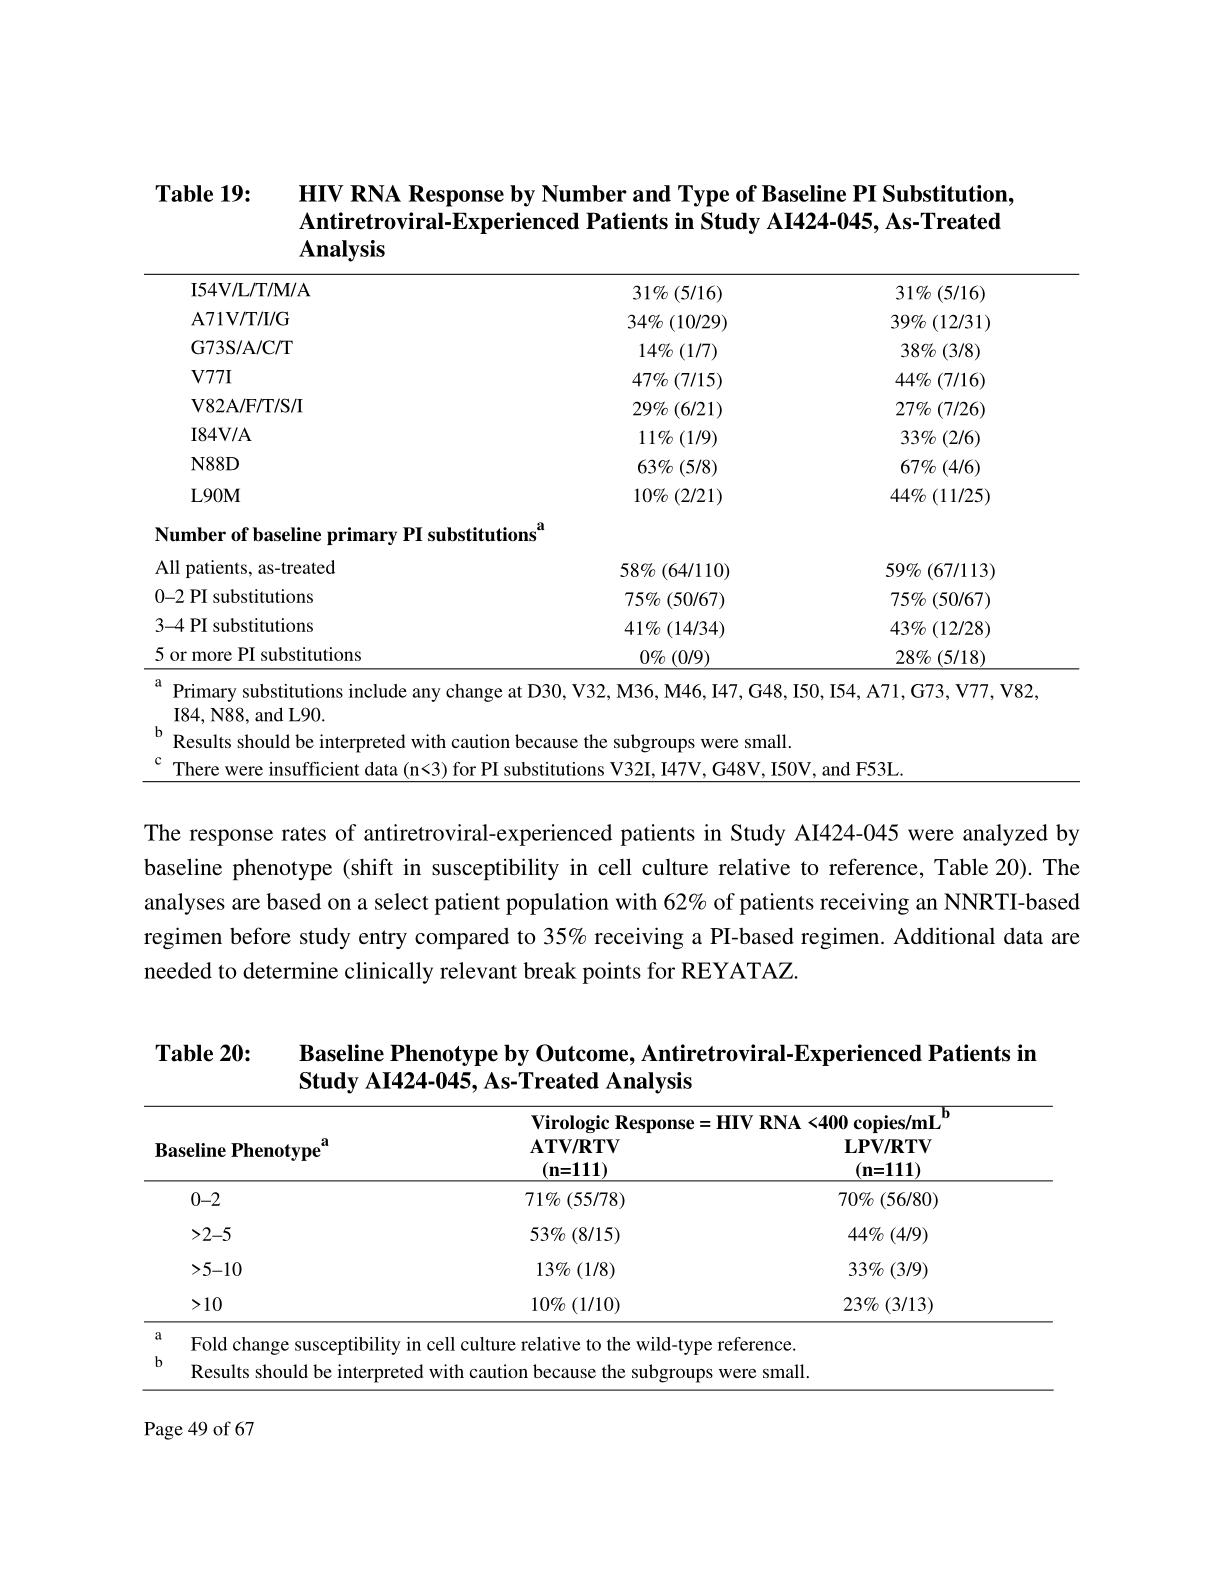partial_lined: (141, 273, 1083, 672)
partial_lined_merged_cells: (141, 1101, 1057, 1326)
